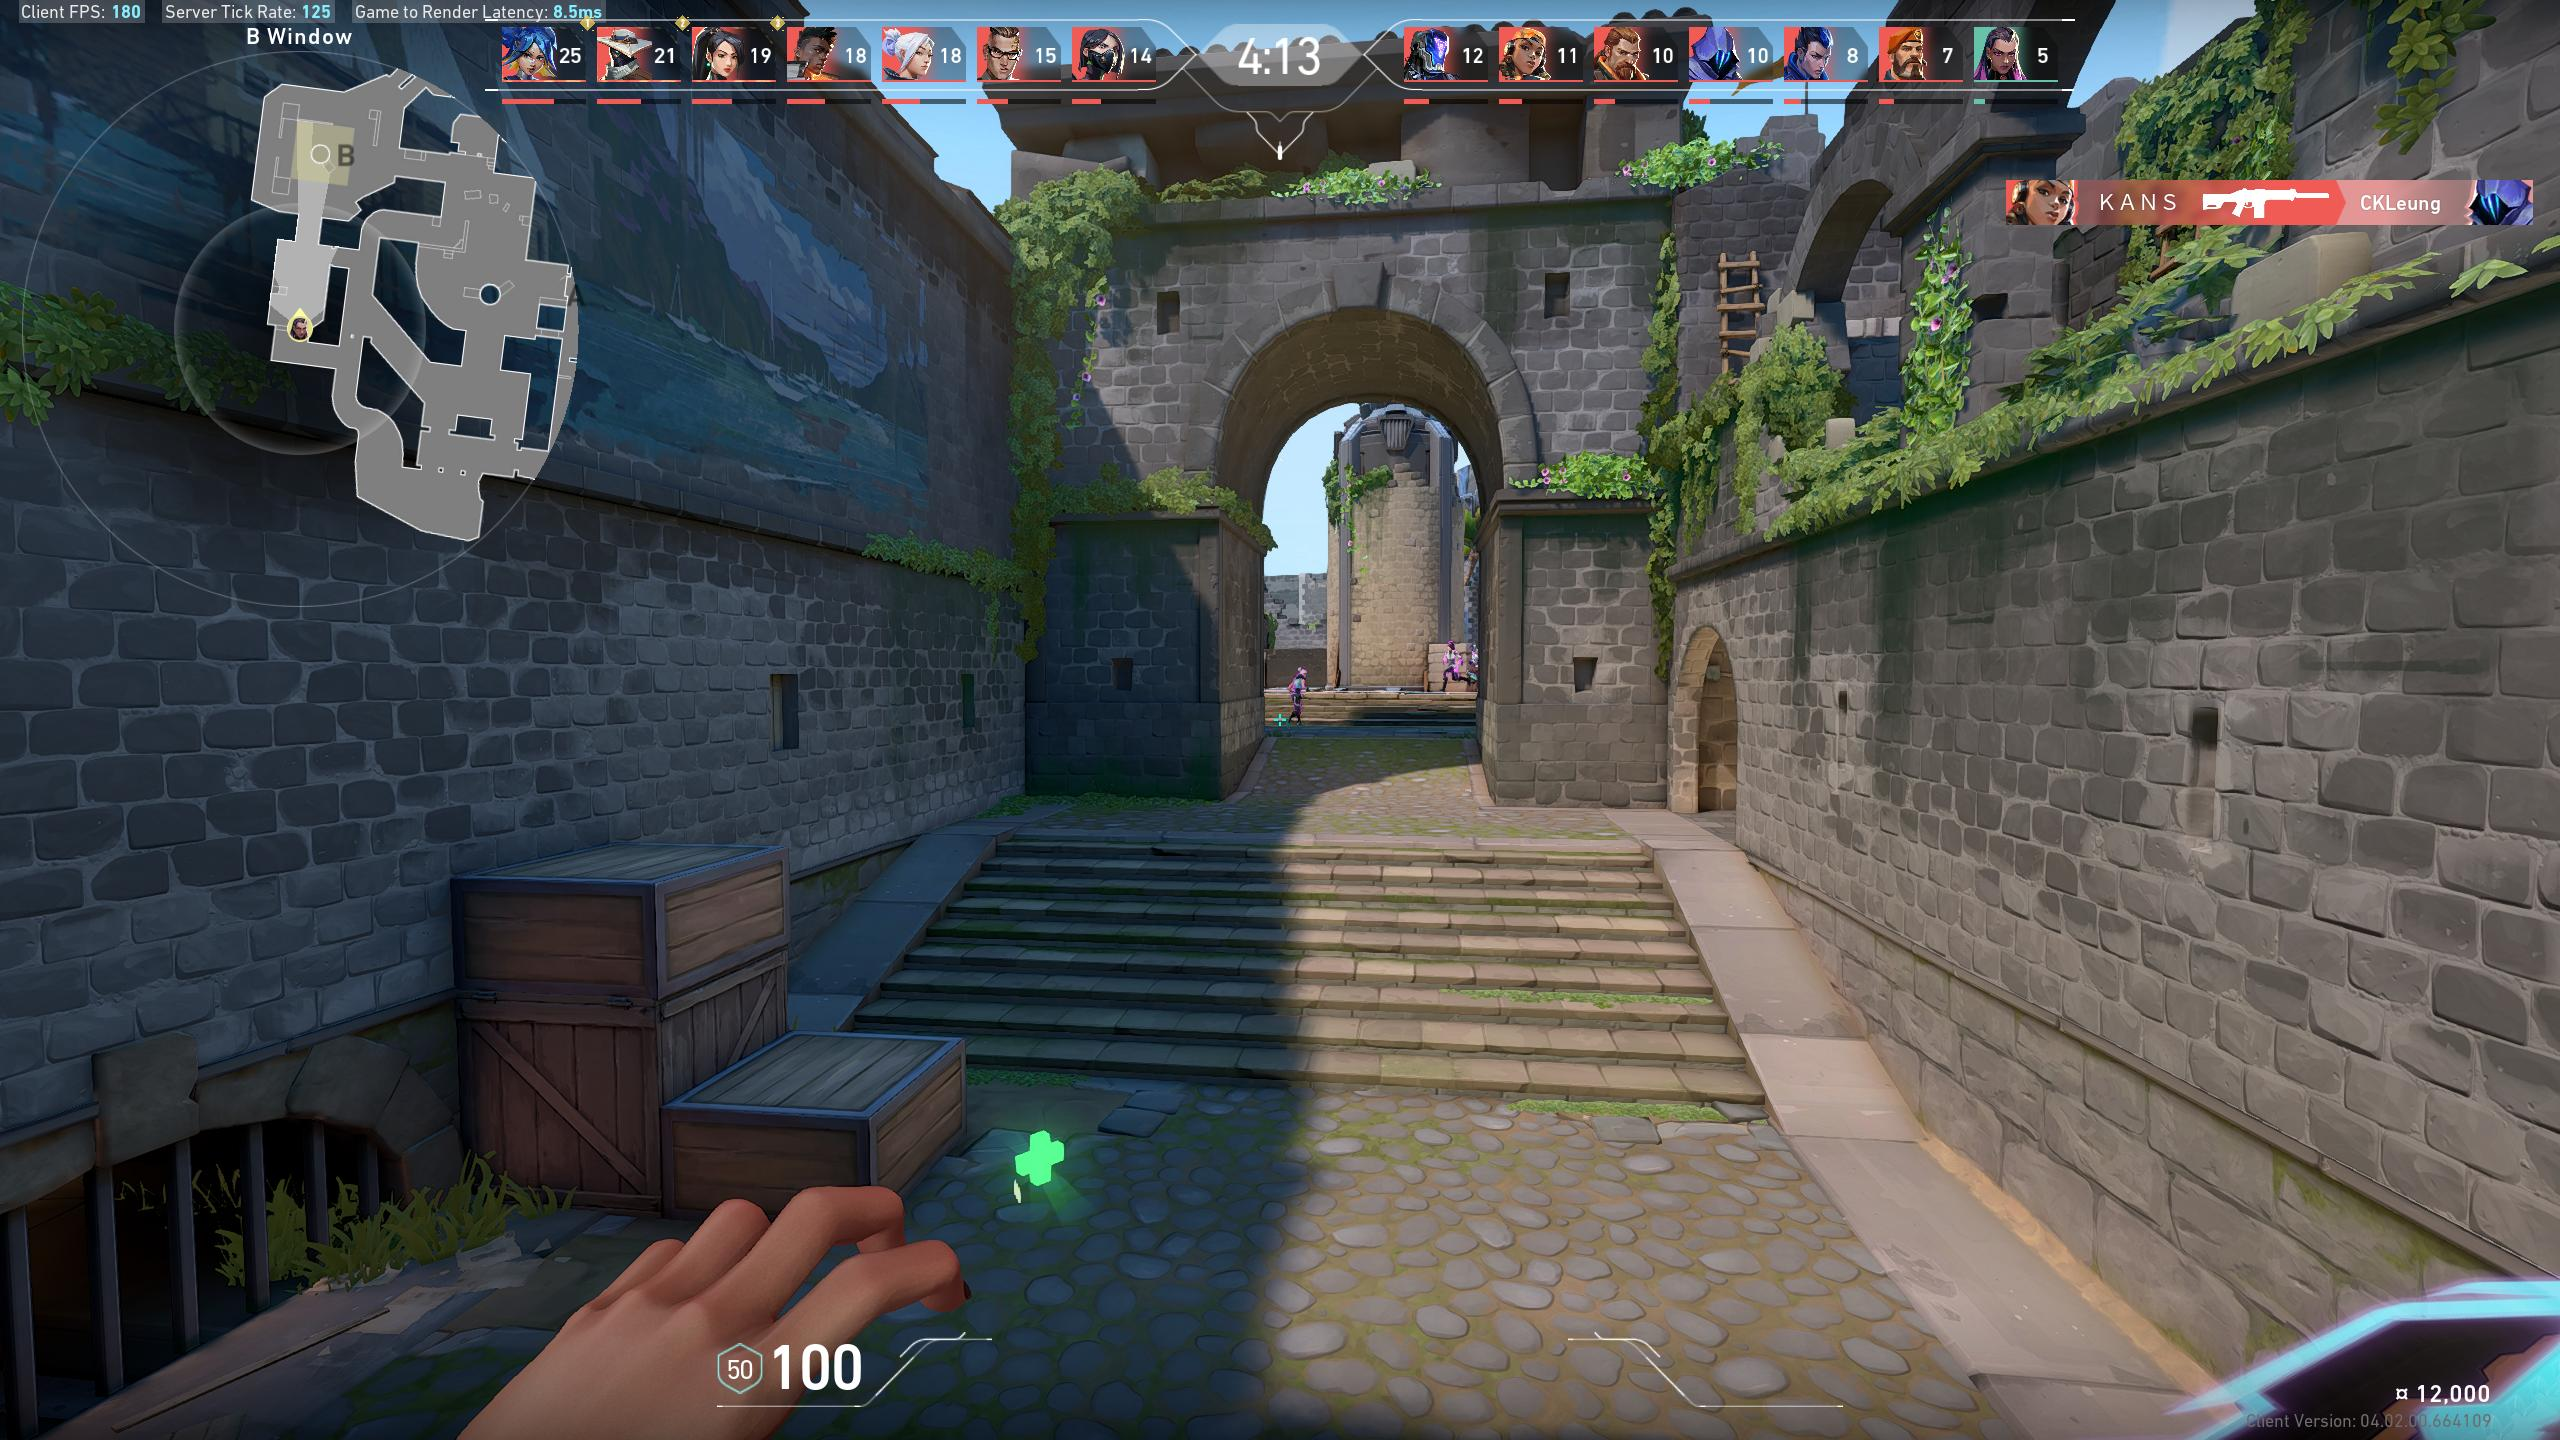enemyBody: (1449, 652, 1454, 666), (1475, 656, 1479, 670), (1296, 679, 1299, 693)
enemyHead: (1449, 645, 1452, 651), (1472, 645, 1475, 651), (1301, 672, 1305, 677)
